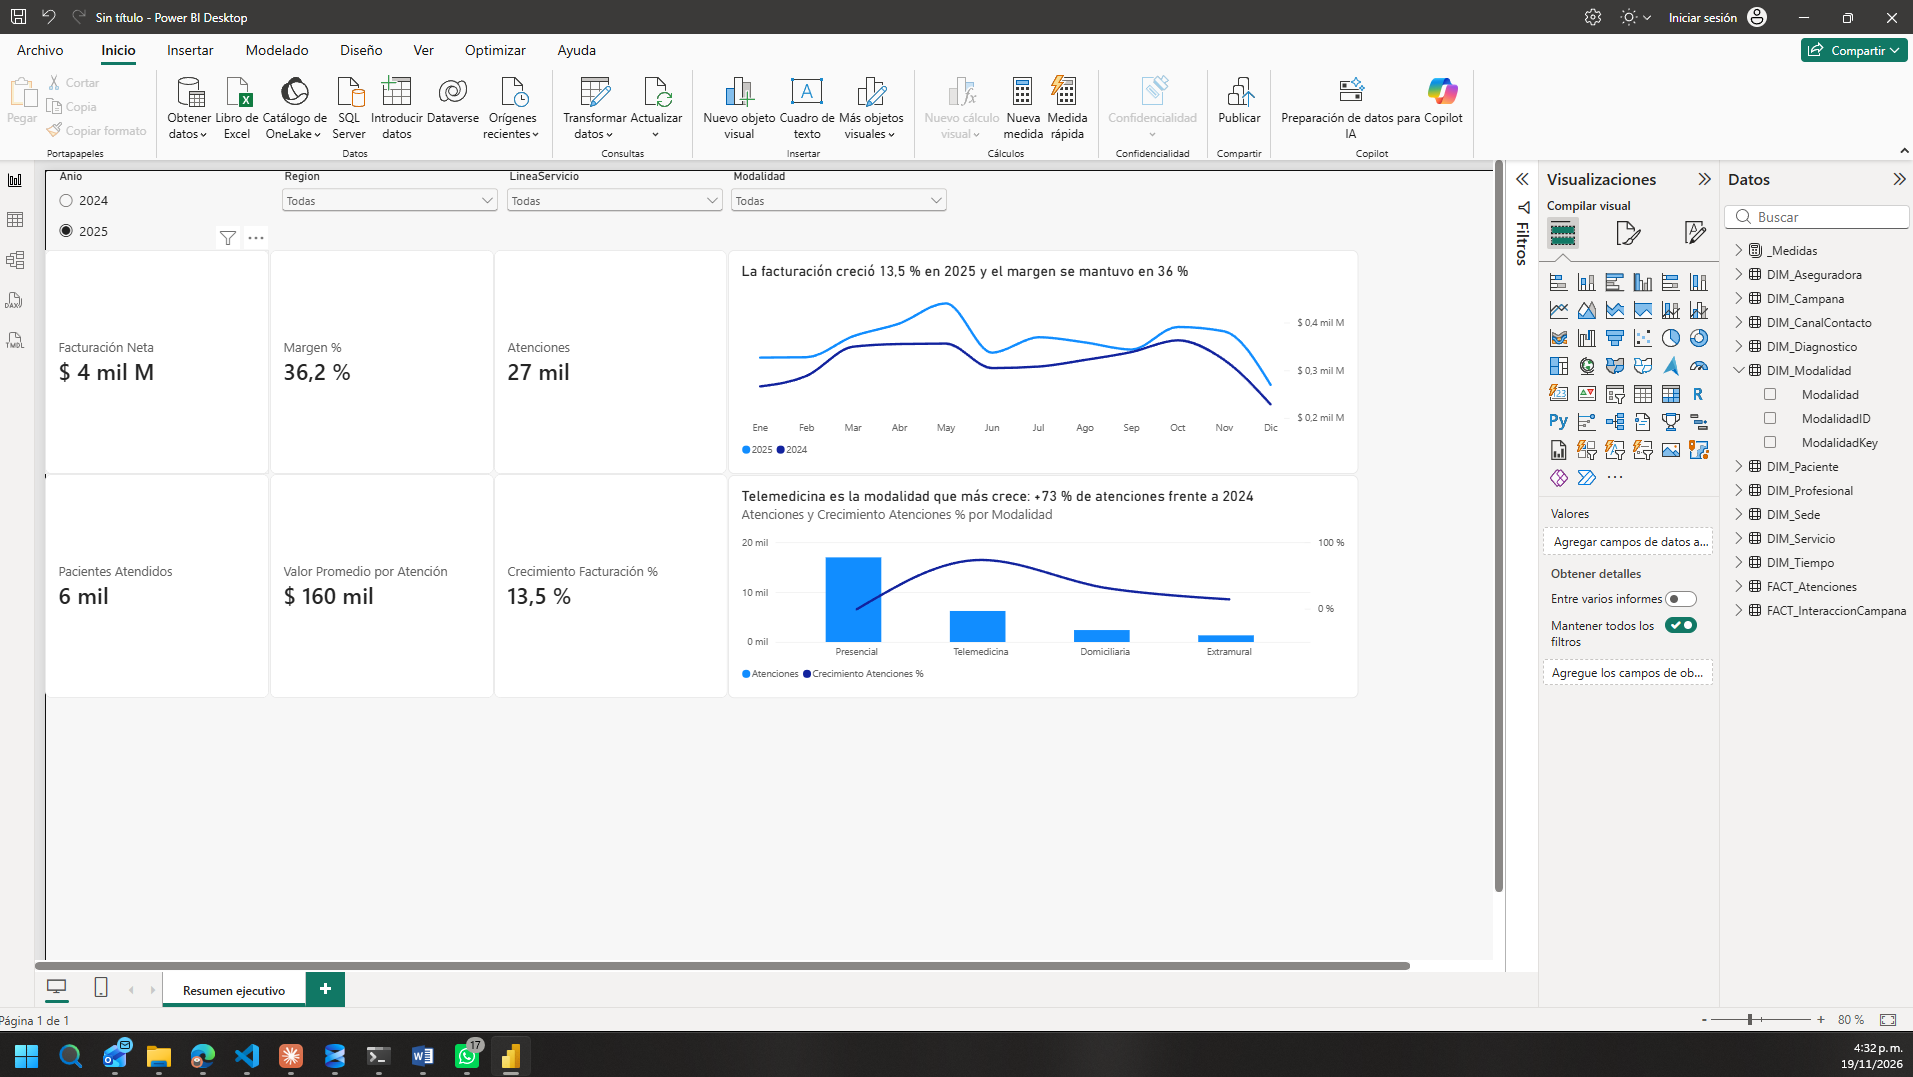

The page's visual inventory and layout, read from the dashboard file:
{"tool":"powerbi","page":{"name":"Resumen ejecutivo","canvas":[1920,1080],"ordinal":0},"visuals":[{"type":"slicer","fields":{"Values":["DIM_Tiempo.Anio"]},"box":[10,0,280,105],"z":0},{"type":"slicer","fields":{"Values":["DIM_Sede.Region"]},"box":[291.2,0,280,105],"z":1000},{"type":"slicer","fields":{"Values":["DIM_Servicio.LineaServicio"]},"box":[572.5,0,280,105],"z":2000},{"type":"slicer","fields":{"Values":["DIM_Modalidad.Modalidad"]},"box":[852.5,0,280,96.2],"z":3000},{"type":"cardVisual","fields":{"Data":["_Medidas.Facturación Neta"]},"box":[0,100,345.7,314.3],"z":4000},{"type":"cardVisual","fields":{"Data":["_Medidas.Margen %"]},"box":[345.7,100,307.1,312.9],"z":5000},{"type":"cardVisual","fields":{"Data":["_Medidas.Atenciones"]},"box":[654.3,100,305.7,312.9],"z":6000},{"type":"cardVisual","fields":{"Data":["_Medidas.Pacientes Atendidos"]},"box":[0,412.9,345.7,331.4],"z":7000},{"type":"cardVisual","fields":{"Data":["_Medidas.Valor Promedio por Atención"]},"box":[345.7,414.3,308.6,330],"z":8000},{"type":"cardVisual","fields":{"Data":["_Medidas.Crecimiento Facturación %"]},"box":[652.9,414.3,307.1,335.7],"z":9000},{"type":"lineChart","title":"La facturación creció 13,5 % en 2025 y el margen se mantuvo en 36 %","fields":{"Category":["DIM_Tiempo.MesCorto"],"Y2":["_Medidas.Facturación Neta","_Medidas.Facturación Año Anterior"]},"box":[0,744.3,1920,335.7],"z":10000},{"type":"lineClusteredColumnComboChart","title":"Telemedicina es la modalidad que más crece: +73 % de atenciones frente a 2024","fields":{"Category":["DIM_Modalidad.Modalidad"],"Y":["_Medidas.Atenciones"],"Y2":["_Medidas.Crecimiento Atenciones %"]},"box":[960,100,960,644.3],"z":11000}]}

Visuals, with their boxes on the page's 1920x1080 design canvas (x1, y1, x2, y2). These are canvas units, not pixel positions in the 1913x1077 screenshot, which may show the page scaled, cropped or inside an application window:
slicer - DIM_Tiempo.Anio: rect(10, 0, 290, 105)
slicer - DIM_Sede.Region: rect(291, 0, 571, 105)
slicer - DIM_Servicio.LineaServicio: rect(572, 0, 852, 105)
slicer - DIM_Modalidad.Modalidad: rect(852, 0, 1132, 96)
cardVisual - _Medidas.Facturación Neta: rect(0, 100, 346, 414)
cardVisual - _Medidas.Margen %: rect(346, 100, 653, 413)
cardVisual - _Medidas.Atenciones: rect(654, 100, 960, 413)
cardVisual - _Medidas.Pacientes Atendidos: rect(0, 413, 346, 744)
cardVisual - _Medidas.Valor Promedio por Atención: rect(346, 414, 654, 744)
cardVisual - _Medidas.Crecimiento Facturación %: rect(653, 414, 960, 750)
"La facturación creció 13,5 % en 2025 y el margen se mantuvo en 36 %" lineChart: rect(0, 744, 1920, 1080)
"Telemedicina es la modalidad que más crece: +73 % de atenciones frente a 2024" lineClusteredColumnComboChart: rect(960, 100, 1920, 744)
